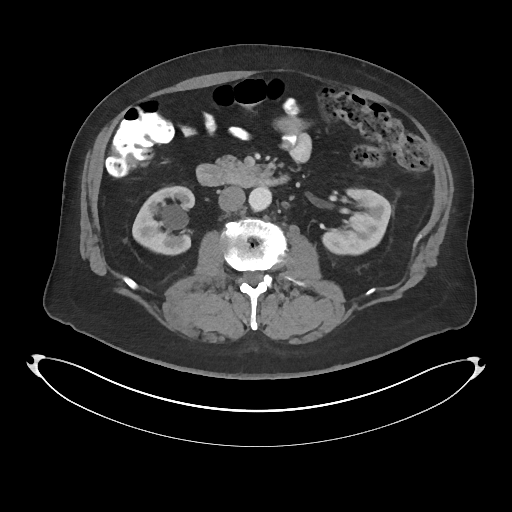Lesion: (160, 201, 189, 233)
